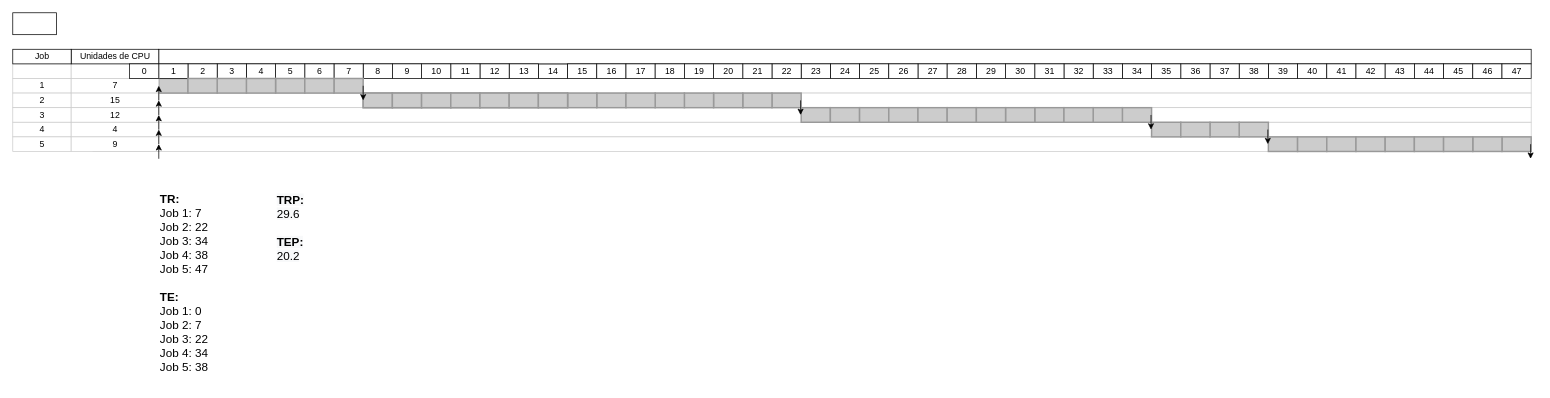
Image size: 1550x398. Some labels were removed from this diagram. The shapes that lost their labels are listed below. From the top down, each one's centre as x and y in pixels, then its label:
At point (34, 23): "FCFS".
At point (844, 56): "Instante de tiempo".
